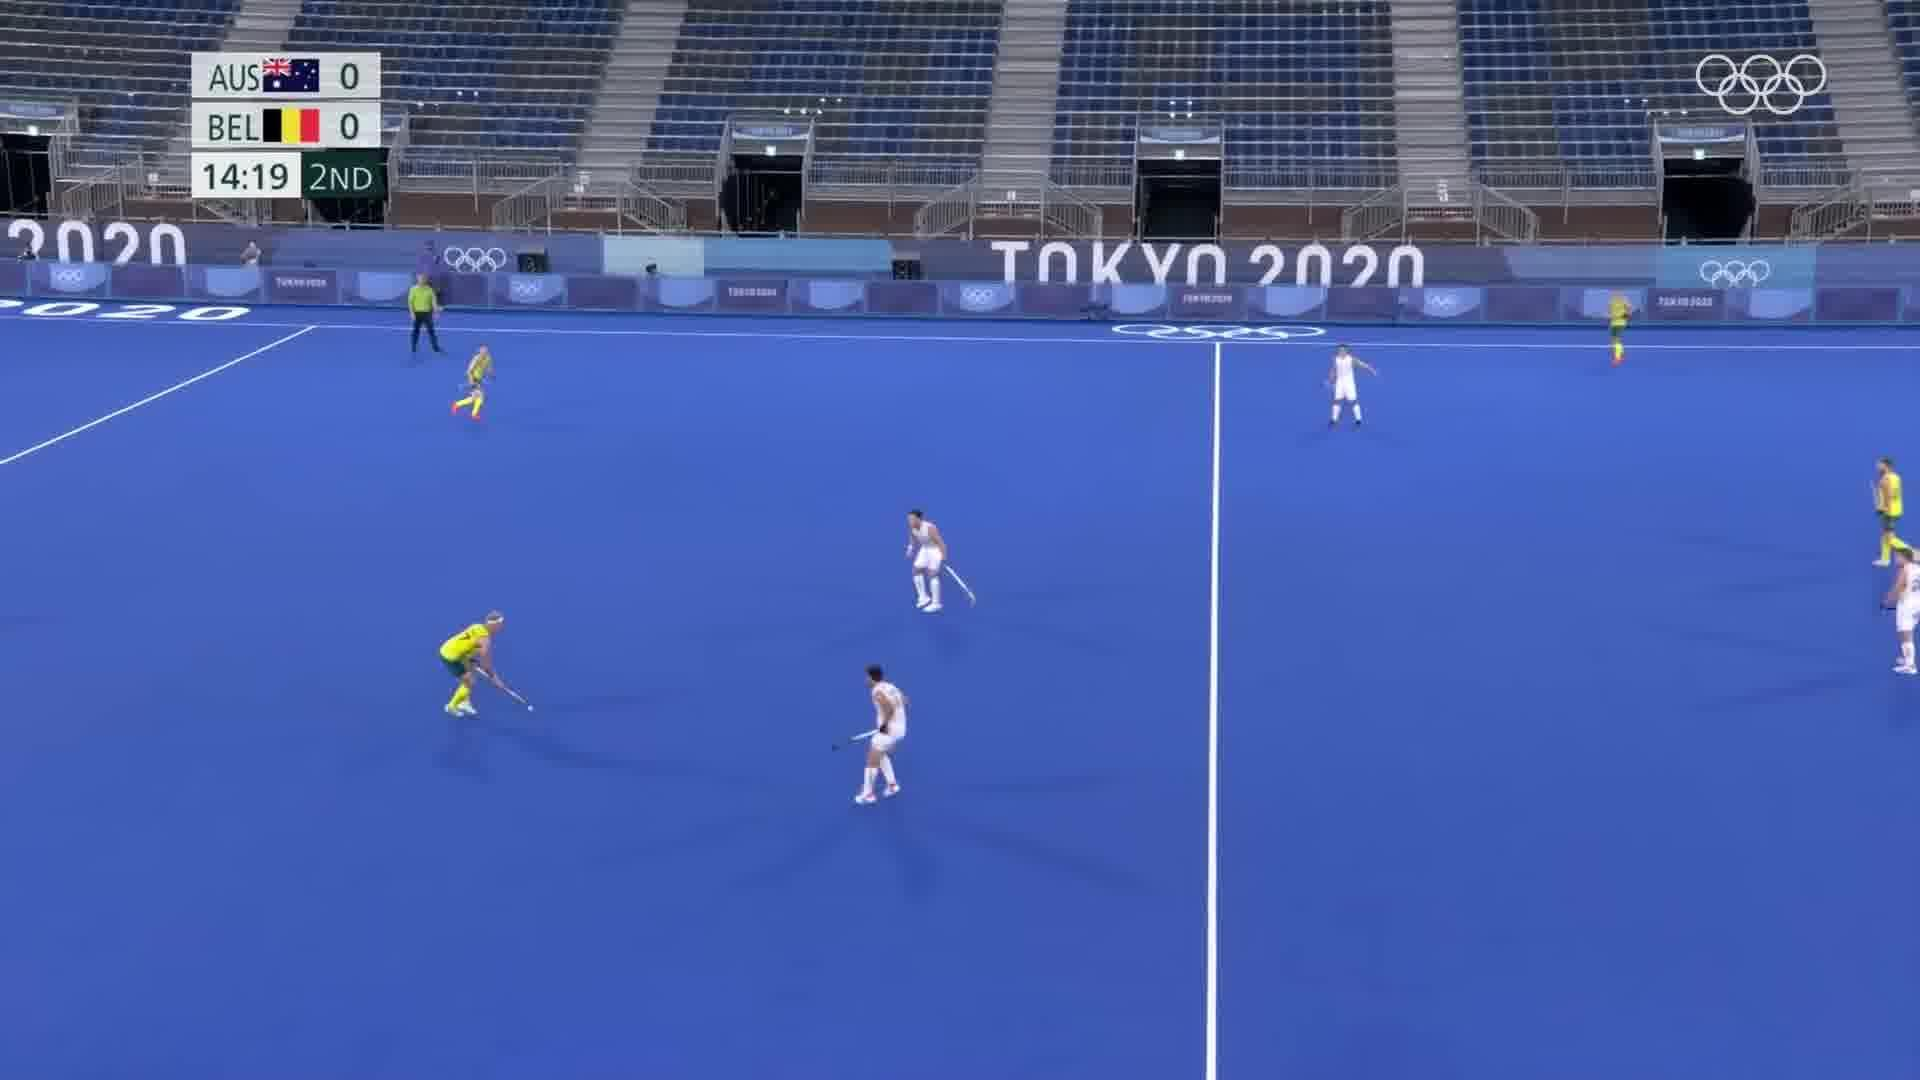ball: (522, 698, 538, 717)
